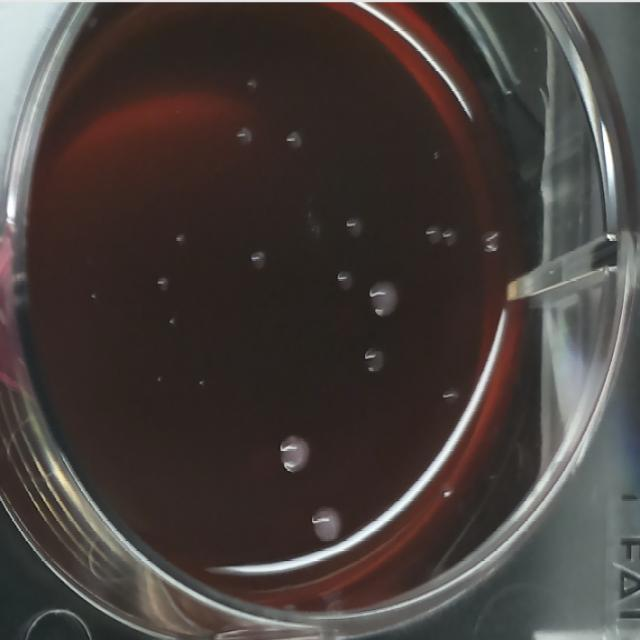Pseudoalteromonas: (308, 502, 347, 548), (276, 431, 314, 478), (366, 277, 403, 323)
